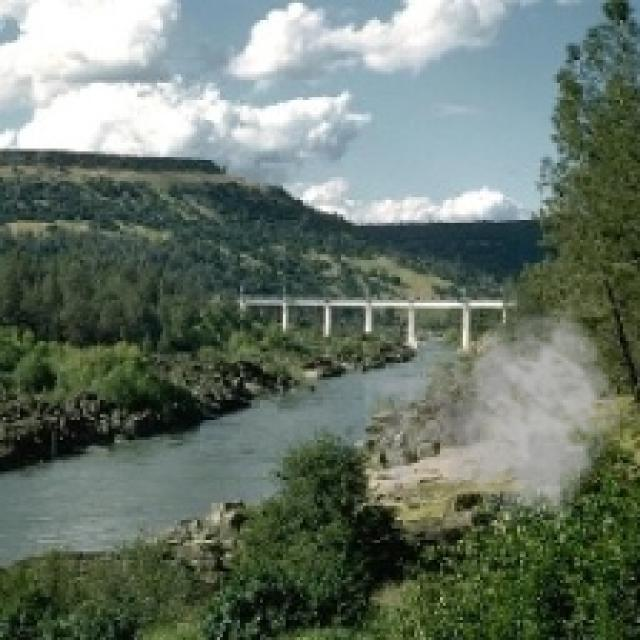Smoke: (357, 300, 623, 537)
